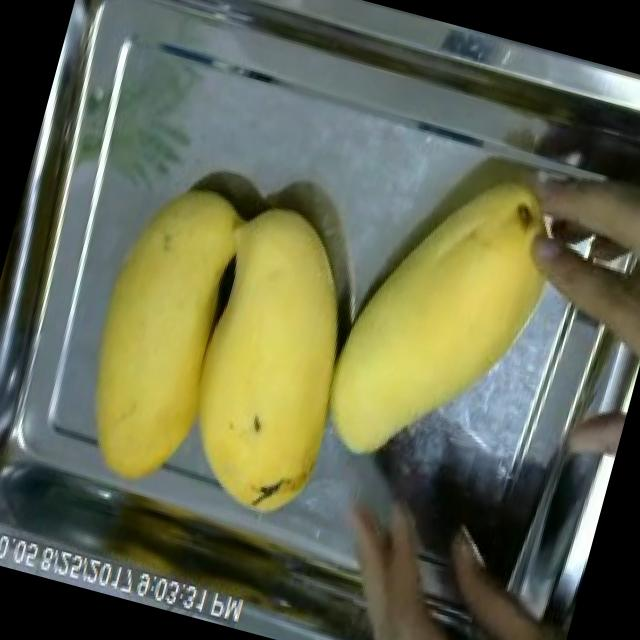fruit: (300, 134, 584, 504), (150, 176, 388, 534), (52, 152, 266, 498)
